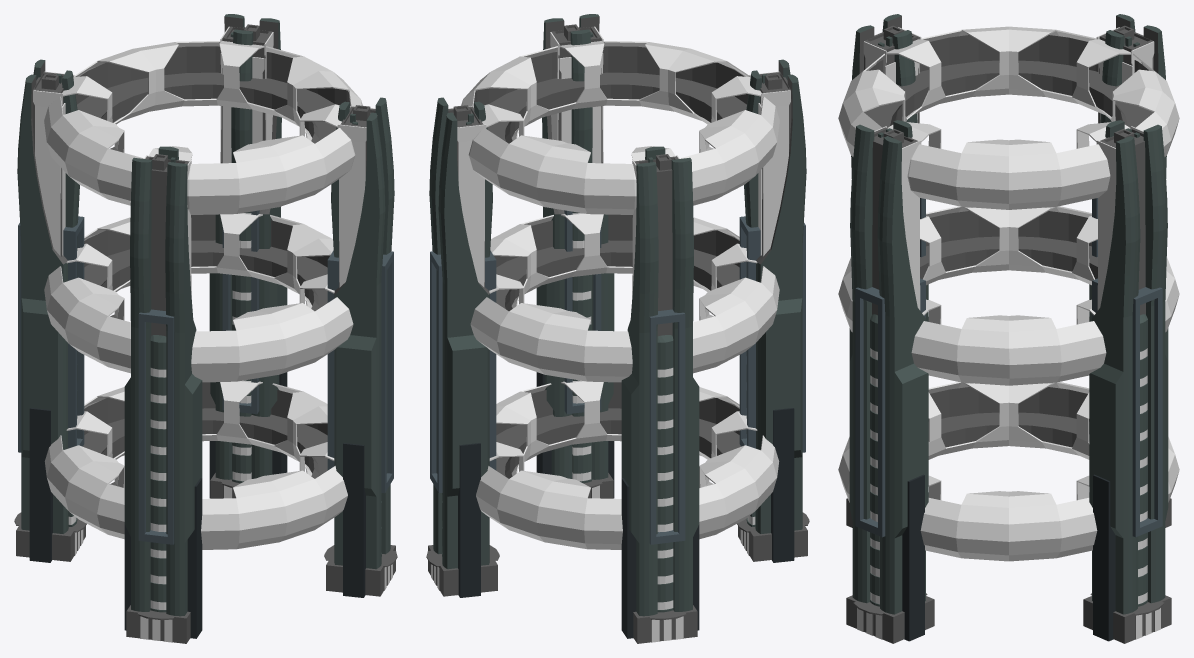
The model's file is building_42.fbx.
3 views of the same model, side by side, from view 1: azimuth 30°, elevation 25°; view 2: azimuth 150°, elevation 25°; view 3: azimuth 270°, elevation 25° (orthographic). The views are drawn at different scales.
Visible parts, largest first — view 1: building_42; view 2: building_42; view 3: building_42.
Boxes of the visible parts, box(x1,y1,x2,y2) form: building_42: box(14, 14, 397, 643); building_42: box(426, 14, 809, 643); building_42: box(838, 14, 1179, 643).
Bounding box in the file's own units: 3002 × 4818 × 3000.
